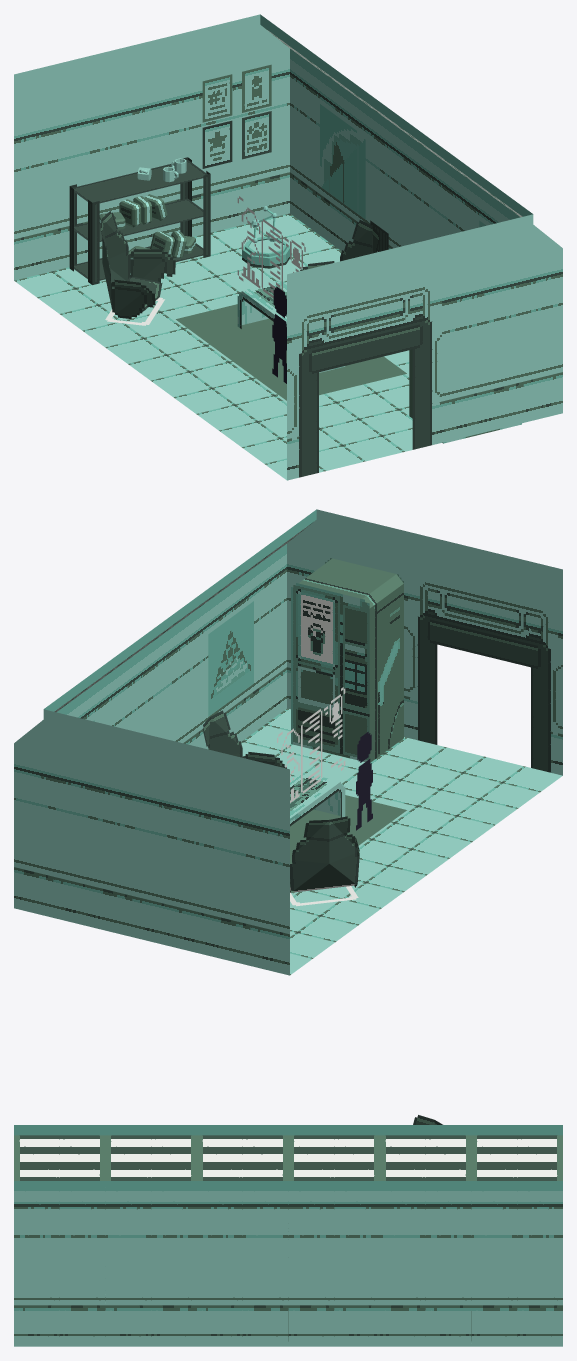
The model's file is aster-sim-room.gltf.
3 renders of one model, top to bottom at view 1: azimuth 30°, elevation 25°; view 2: azimuth 150°, elevation 25°; view 3: azimuth 270°, elevation 25°, orthographic.
Size of the model in its own units: 7 by 5.06 by 12.
9 materials, 9 textured.
